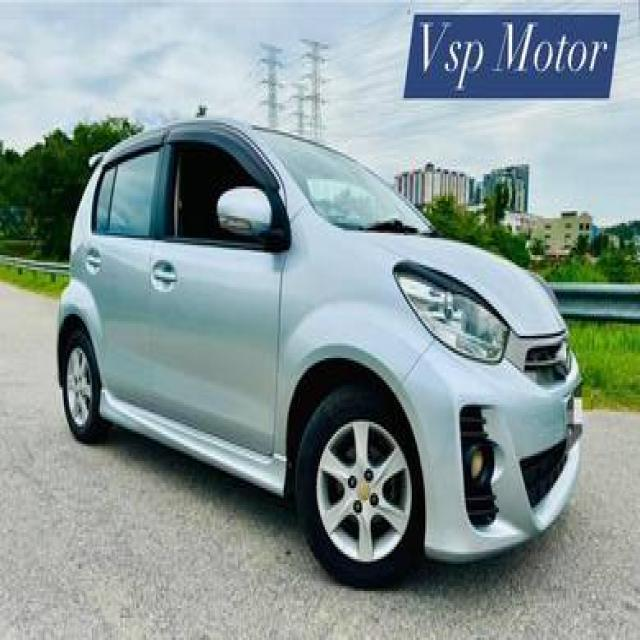PeroduaMyvi: (54, 107, 584, 588)
